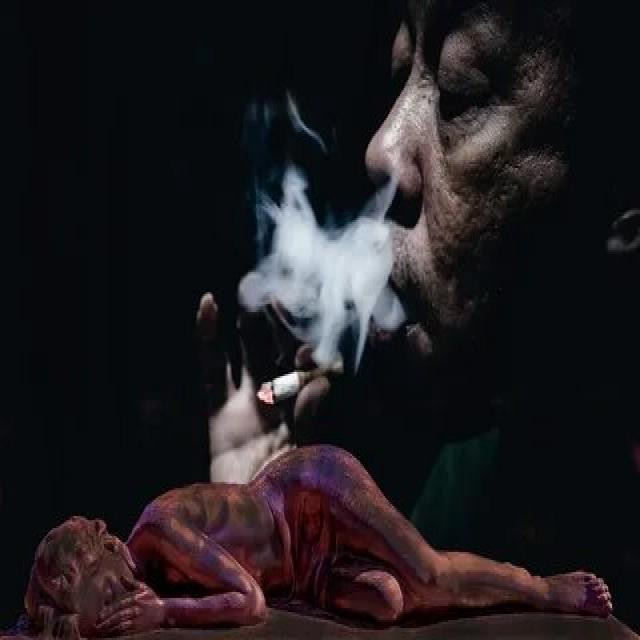cigarette: (256, 342, 349, 408)
